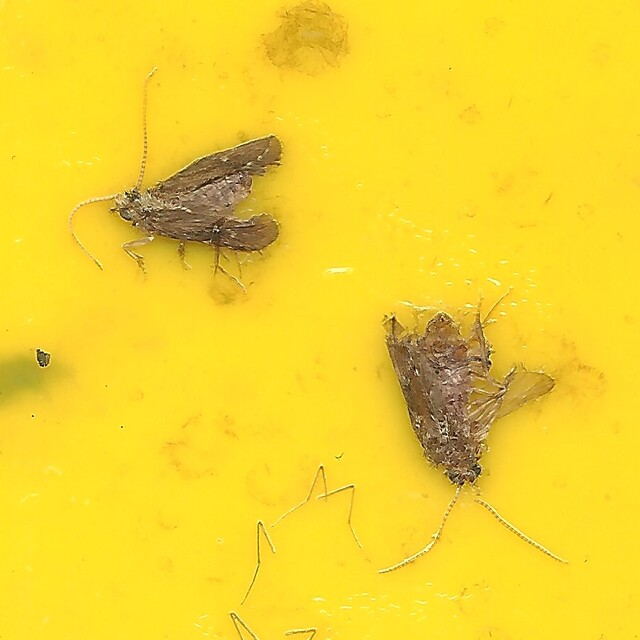Trichoptera: (372, 312, 570, 571), (70, 69, 289, 289)
